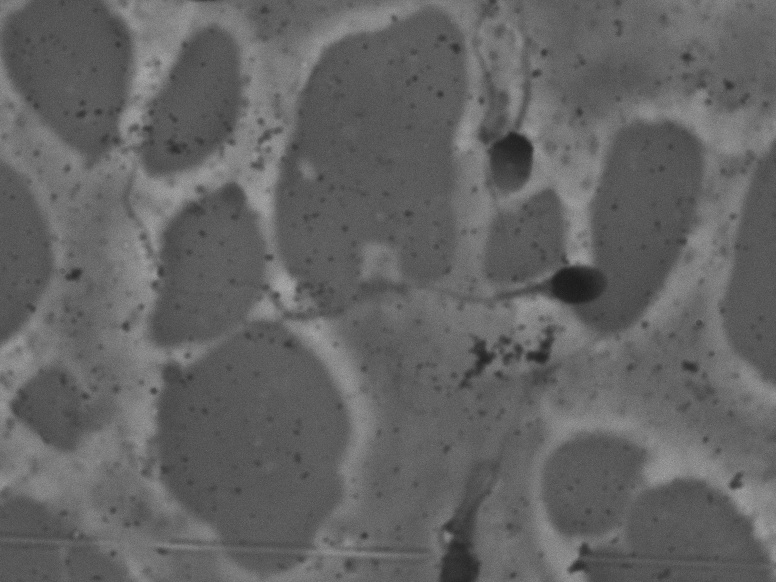Abnormal: (454, 5, 556, 213)
Normal: (209, 252, 628, 333)
